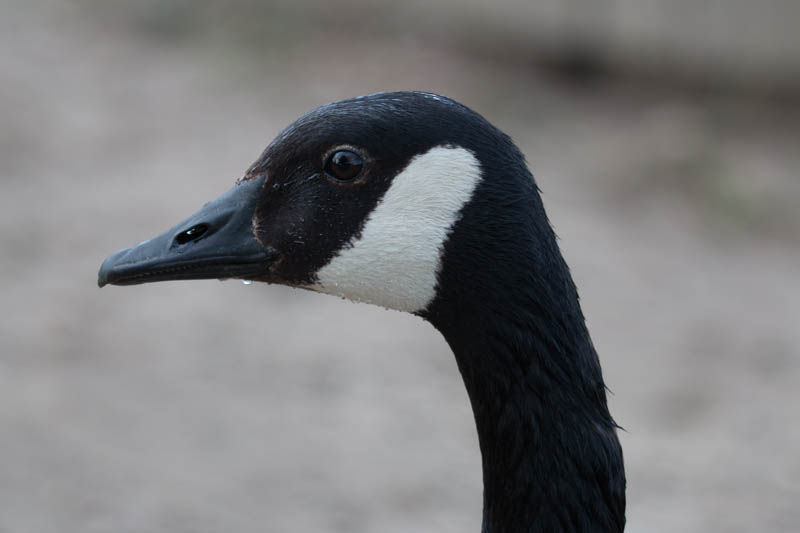goose-head: (97, 91, 580, 314)
